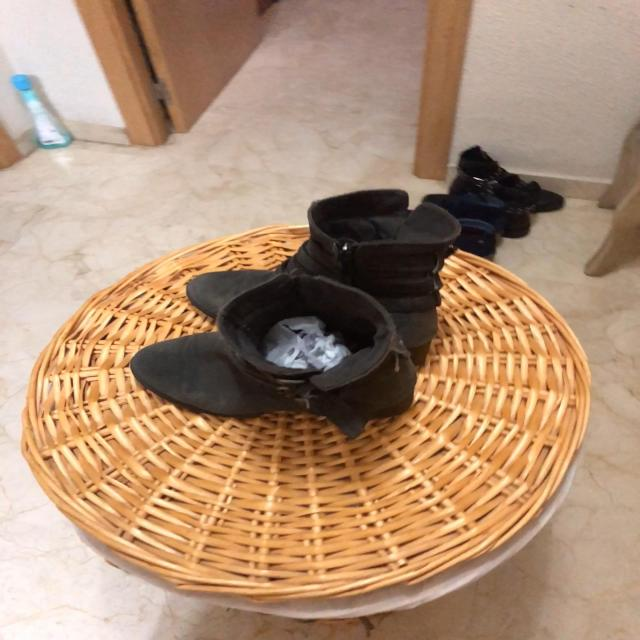shoe: (133, 273, 418, 441), (187, 191, 460, 362)
